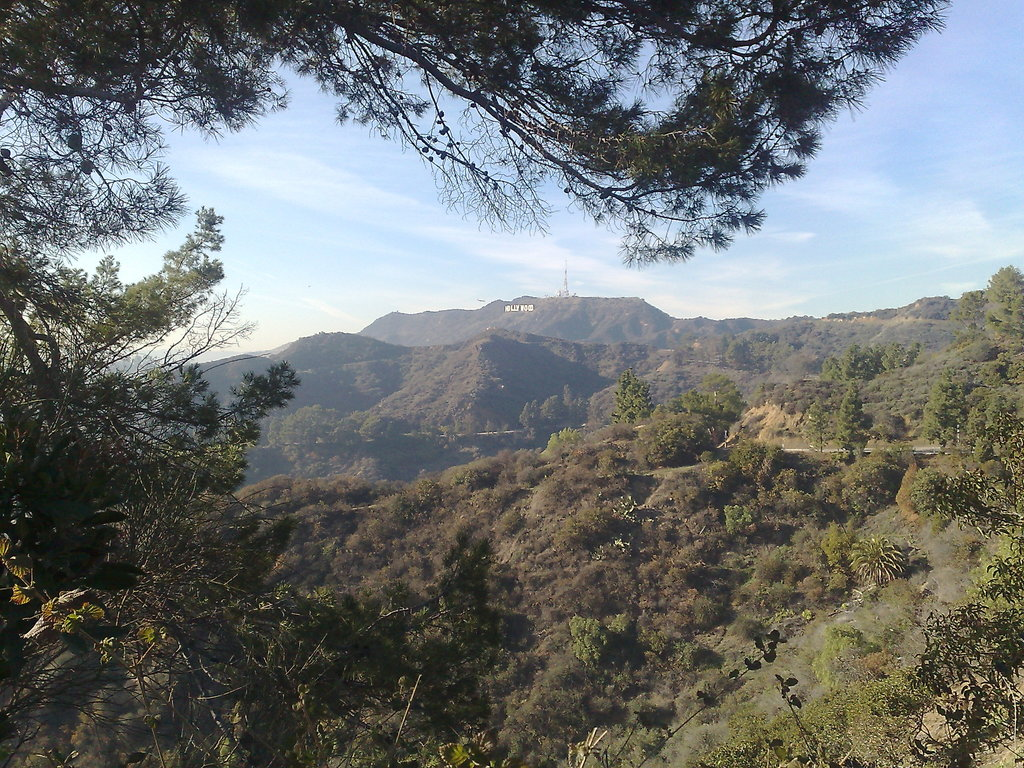Tree: (0, 0, 970, 210), (0, 209, 300, 741), (903, 536, 1023, 758), (517, 614, 633, 764), (599, 488, 662, 641), (910, 442, 1020, 525), (560, 598, 650, 680), (428, 520, 504, 614), (656, 556, 732, 648), (840, 446, 921, 522), (716, 542, 787, 627), (913, 364, 970, 467), (458, 442, 533, 495), (970, 386, 1019, 462), (609, 373, 662, 434), (832, 386, 880, 453), (979, 263, 1023, 336), (821, 516, 856, 586), (533, 469, 579, 522), (408, 468, 451, 519)
